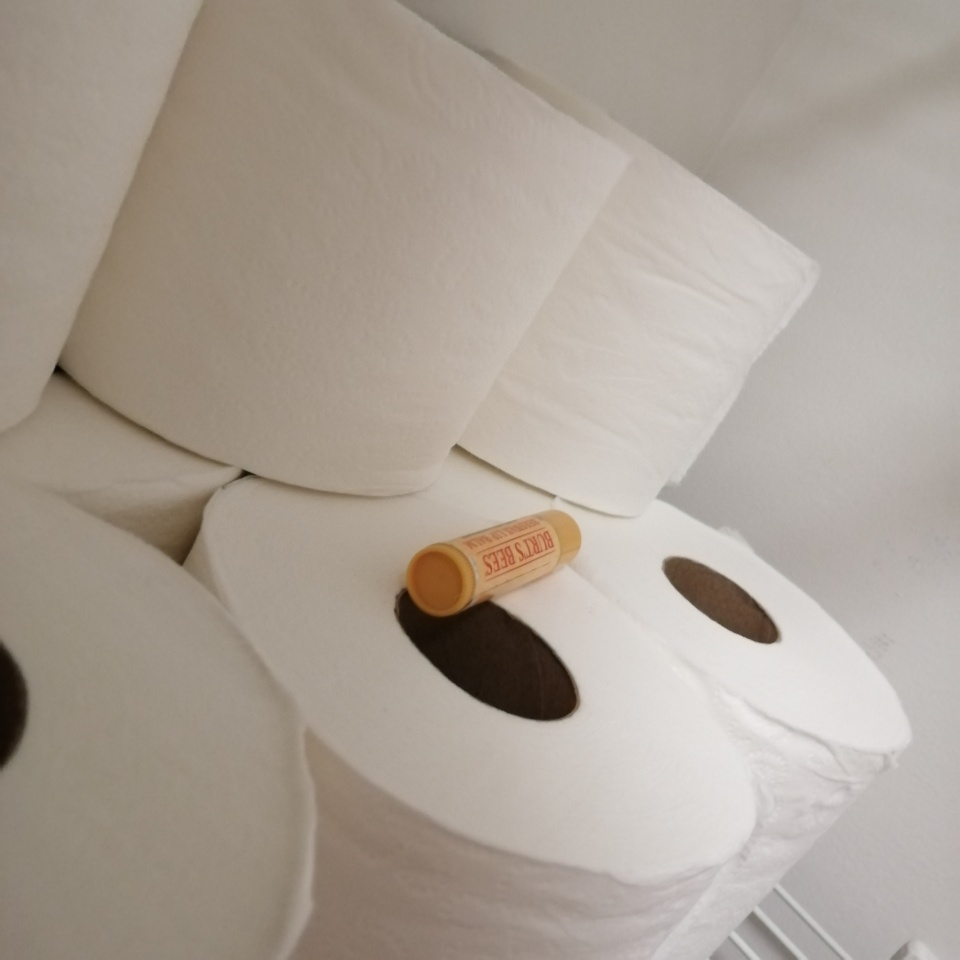chapstick: (408, 509, 581, 616)
